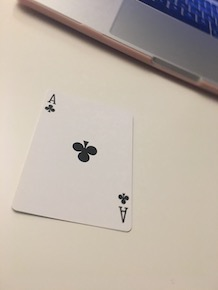AceOfClubs: (11, 88, 140, 234)
